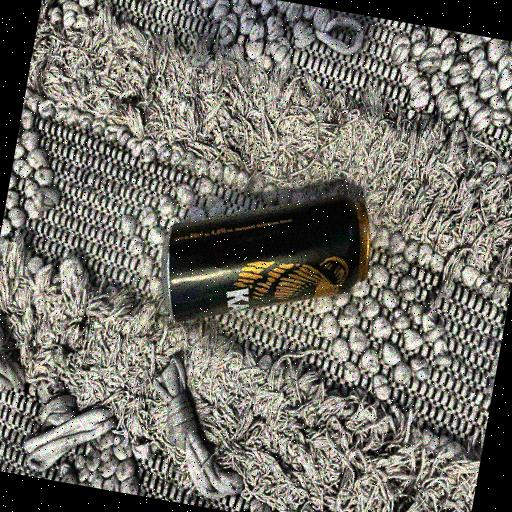karhu: (148, 164, 381, 353)
